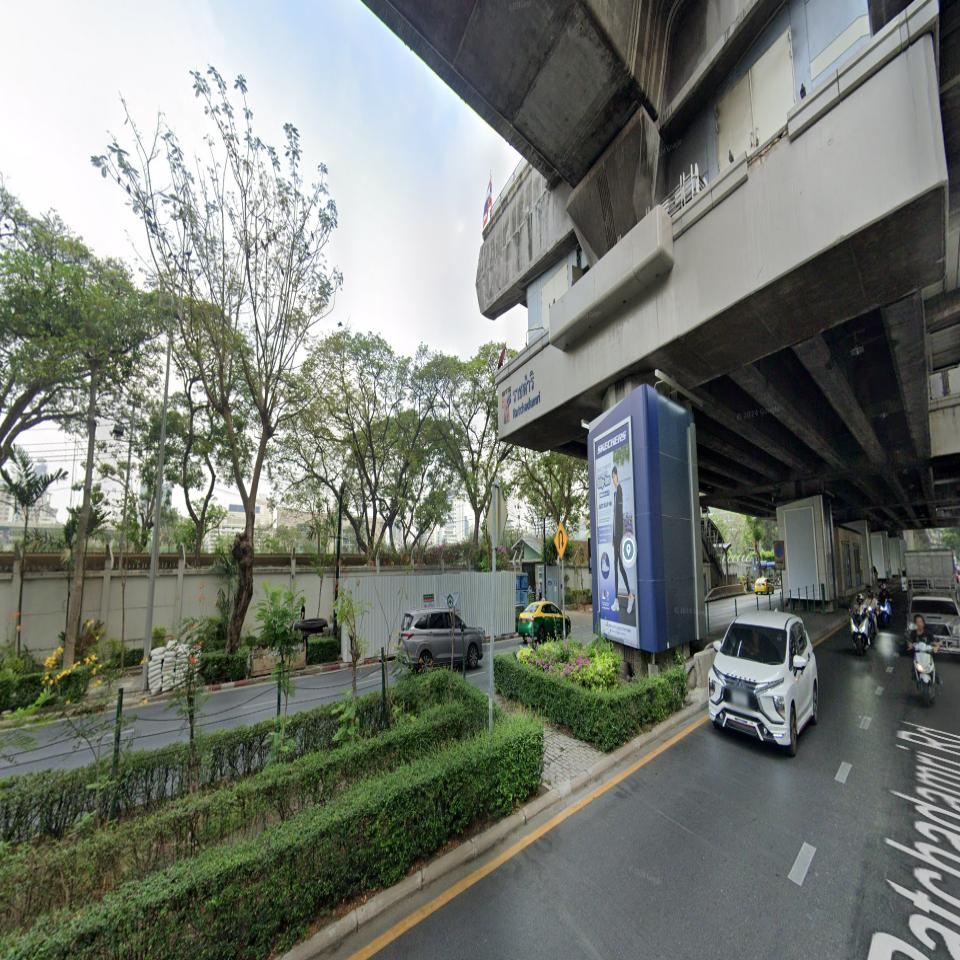signage: (501, 369, 541, 425), (513, 370, 540, 420)
